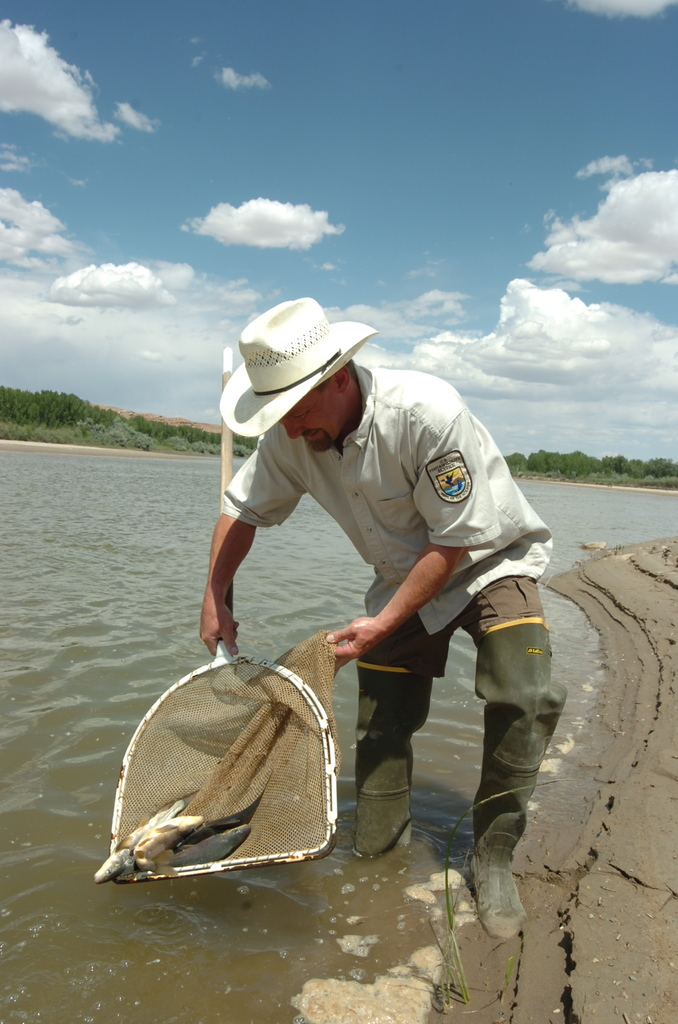Animal: (167, 817, 246, 860)
